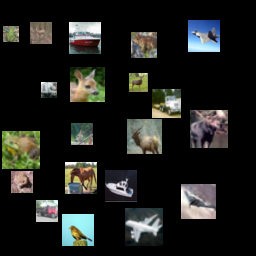airplane: (125, 208, 163, 246), (181, 184, 216, 219), (188, 20, 220, 52)
bird: (62, 214, 94, 246), (71, 123, 93, 145)
deer: (190, 110, 228, 148), (70, 67, 105, 102), (127, 119, 162, 154), (30, 22, 52, 44), (129, 73, 148, 92)
frog: (2, 131, 40, 169), (131, 32, 157, 58), (11, 171, 33, 193), (3, 26, 19, 42)
ship: (105, 170, 137, 202), (69, 22, 101, 54)
